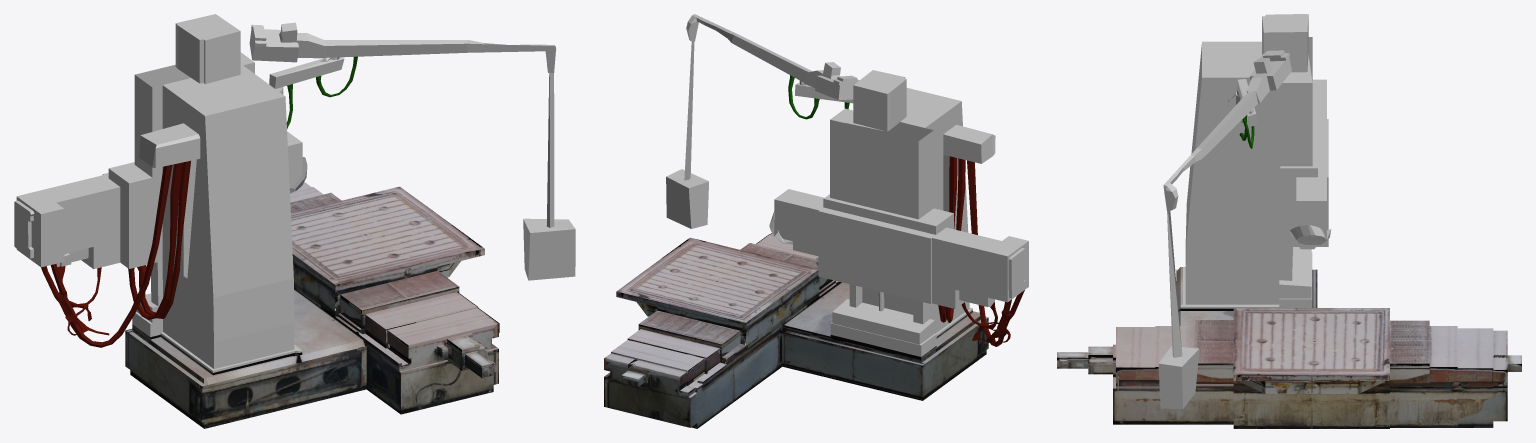
Rendered from wip.gltf.
3 views of the same model, side by side, from view 1: azimuth 30°, elevation 25°; view 2: azimuth 150°, elevation 25°; view 3: azimuth 270°, elevation 25° (orthographic). The views are drawn at different scales.
Parts seen in each view (by area): view 1: Cube.003, Cube.004, Cube.006; view 2: Cube.003, Cube.004, Cube.006; view 3: Cube.004, Cube.003.
Boxes of the visible parts, box(x1,y1,x2,y2) form: Cube.003: box(14, 14, 575, 372); Cube.004: box(125, 182, 499, 428); Cube.006: box(41, 160, 190, 347); Cube.003: box(666, 14, 1028, 356); Cube.004: box(604, 233, 988, 428); Cube.006: box(938, 156, 1024, 346); Cube.004: box(1057, 267, 1521, 428); Cube.003: box(1158, 14, 1331, 408).
Bounding box in the file's own units: 6.13 × 4.21 × 5.62.
